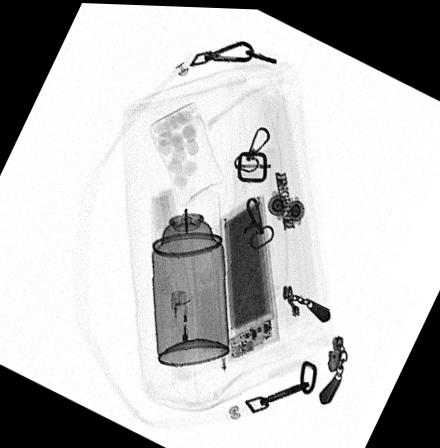Lighter: (172, 288, 192, 378)
Powerbank: (216, 190, 281, 362)
Sprayer: (151, 184, 229, 364)
